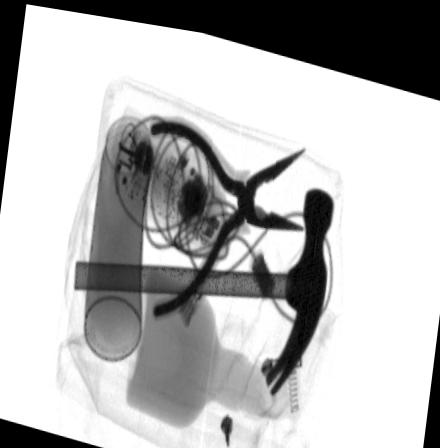Hammer: (72, 175, 335, 392)
Pliers: (145, 105, 306, 318)
